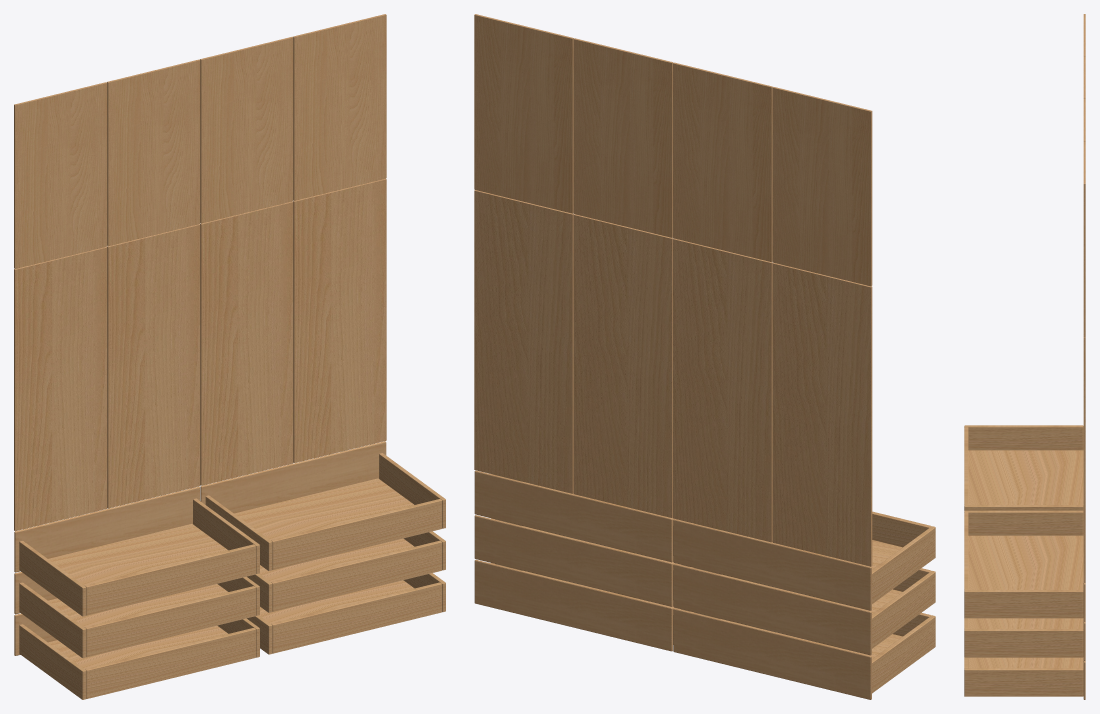
Rendered from lockerTypeTwoViewOne.gltf.
The picture shows the model from 3 angles, left to right: view 1: azimuth 30°, elevation 25°; view 2: azimuth 150°, elevation 25°; view 3: azimuth 270°, elevation 25°; orthographic projection. The views are drawn at different scales.
Visible parts, largest first — view 1: lockerTypeTwoViewOne; view 2: lockerTypeTwoViewOne; view 3: lockerTypeTwoViewOne.
Boxes of the visible parts, left/top/right/bottom form: lockerTypeTwoViewOne: left=14, top=14, right=445, bottom=699; lockerTypeTwoViewOne: left=474, top=14, right=935, bottom=699; lockerTypeTwoViewOne: left=964, top=14, right=1085, bottom=699.
Size of the model in its own units: 1.9 by 2.69 by 0.5742.
1 material, 1 textured.
